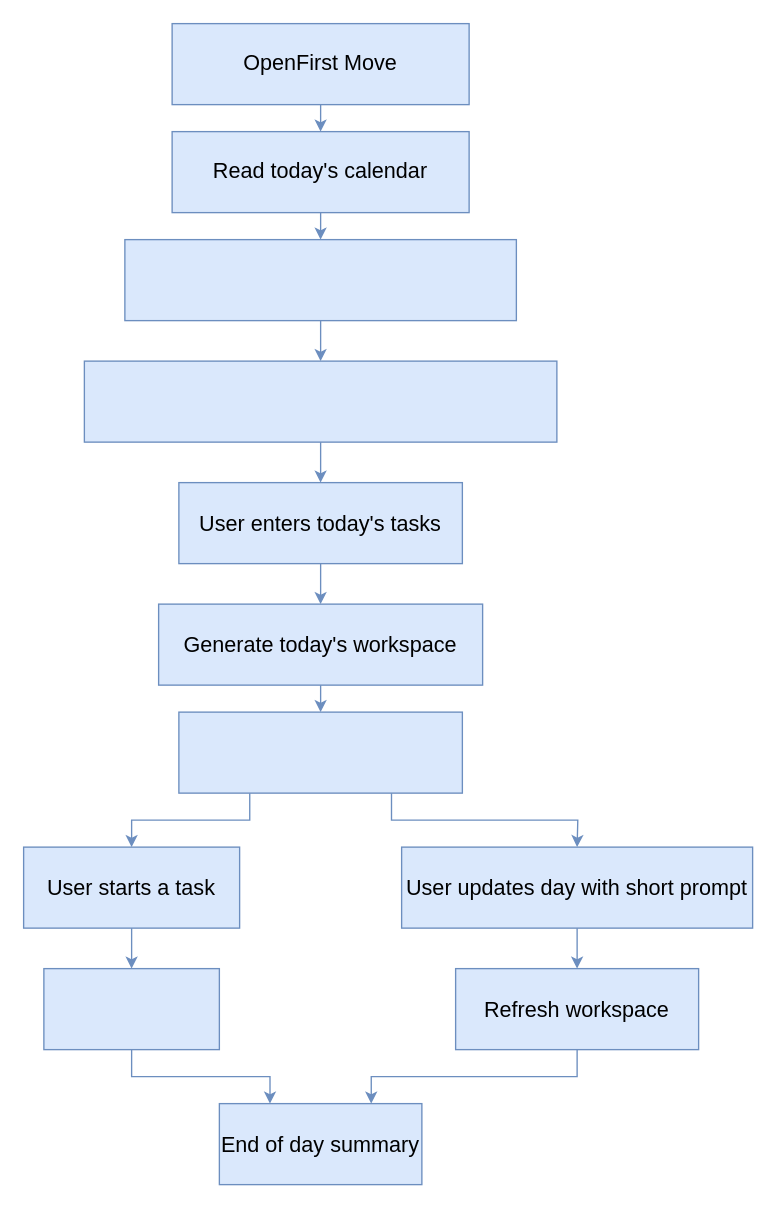
The diagram is 776 pixels wide and 1208 high, and some of its shapes have lost their labels. Each missing label, with the centre of its shape:
Ask user: what else do you want to begin today?: (320,401)
Open task tools: (131,1008)
Show fixed blocks already on the page: (320,279)
Show Now / Ready / Later: (320,752)
